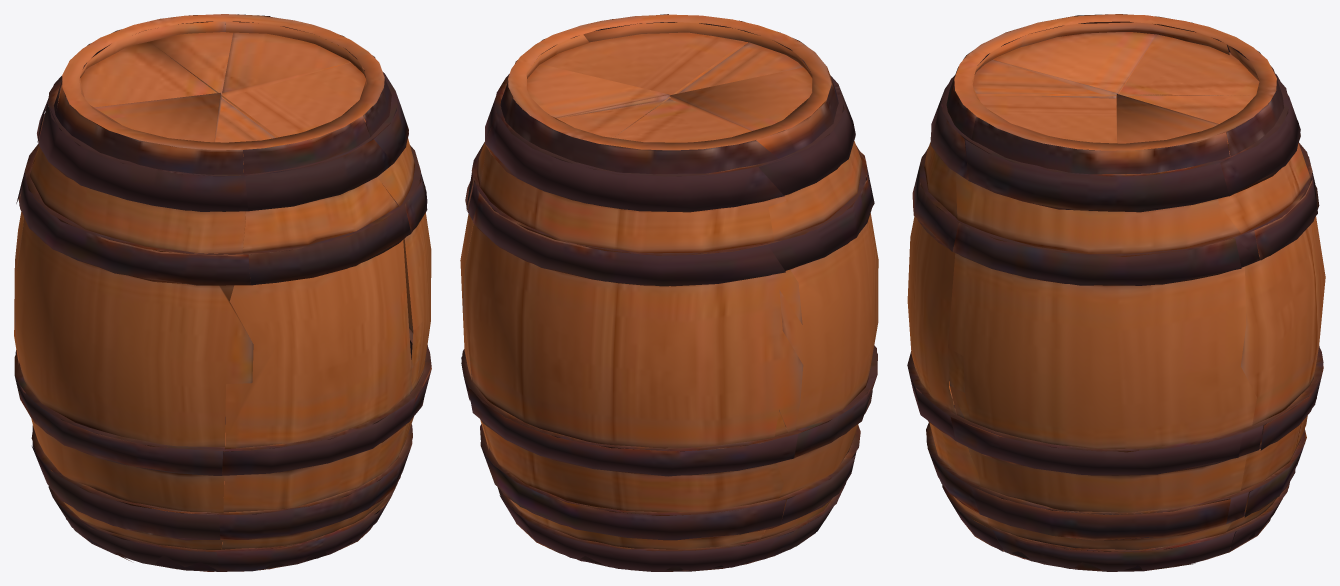
File: barrel_3.glb
3 views of the same model, side by side, from view 1: azimuth 30°, elevation 25°; view 2: azimuth 150°, elevation 25°; view 3: azimuth 270°, elevation 25° (orthographic).
Parts seen in each view (by area): view 1: Mesh_0; view 2: Mesh_0; view 3: Mesh_0.
Part boxes in pixels (x1,y1,x2,y2): Mesh_0: (14, 14, 431, 571); Mesh_0: (460, 14, 878, 571); Mesh_0: (907, 14, 1325, 571).
Size of the model in its own units: 0.632 by 0.7027 by 0.6288.
Materials: 1 (1 with a texture image).
